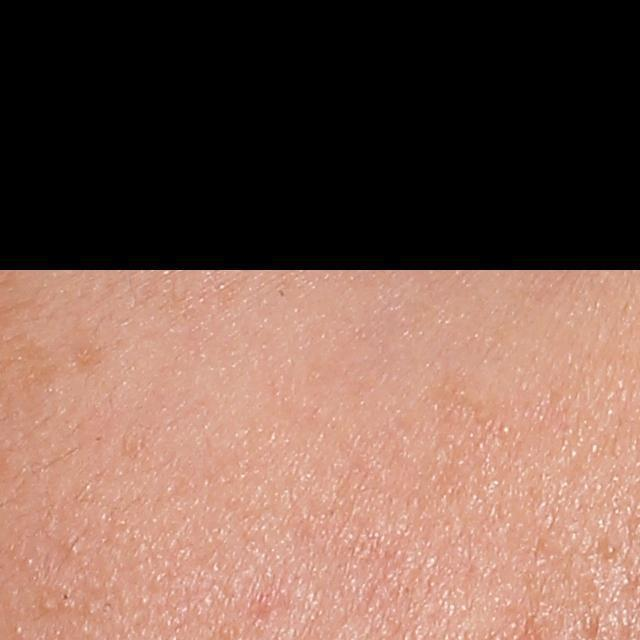comedo: (601, 537, 620, 558)
